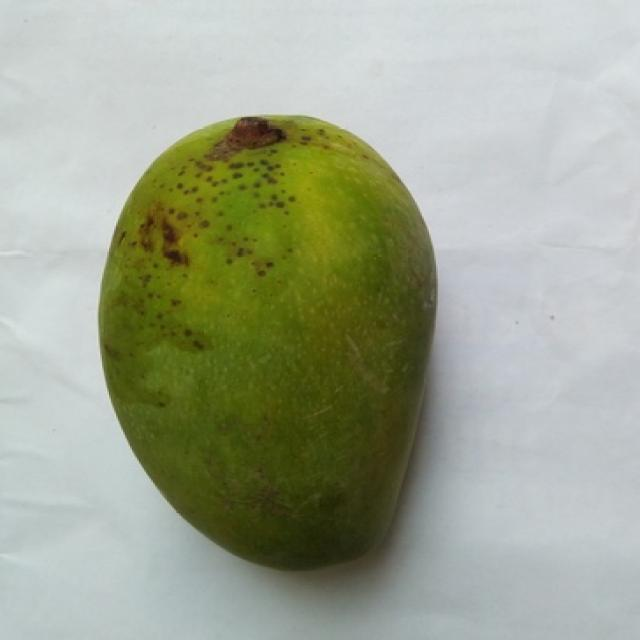Mango: (98, 117, 434, 568)
